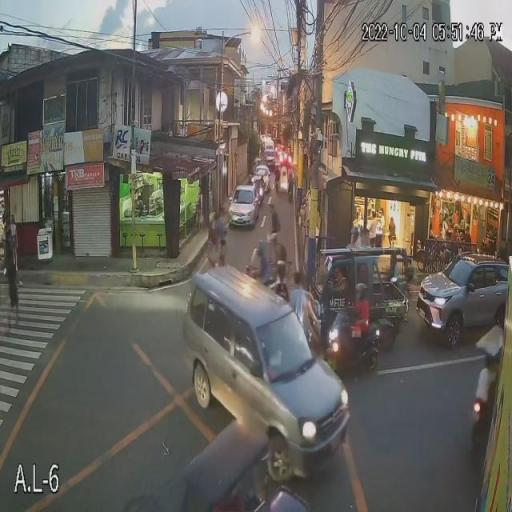helmet: (355, 284, 369, 300)
motorcycle: (325, 314, 381, 369)
rider: (347, 300, 369, 367)
